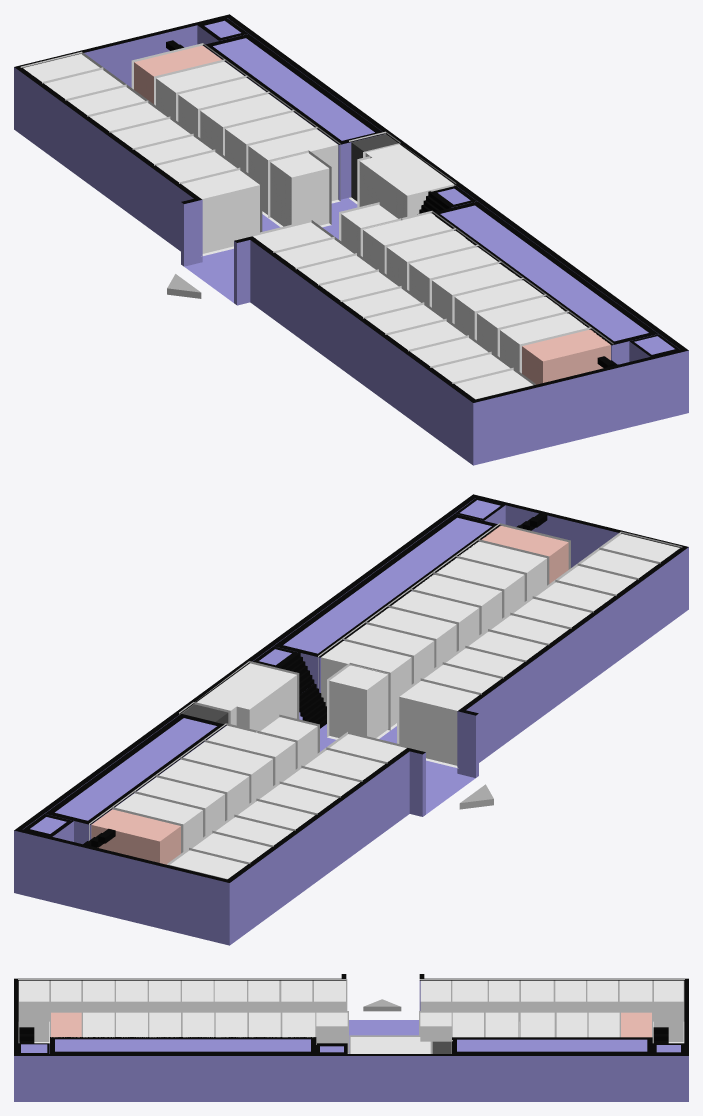
3 views of the same model, one above another, from view 1: azimuth 30°, elevation 25°; view 2: azimuth 150°, elevation 25°; view 3: azimuth 270°, elevation 25° (orthographic). The views are drawn at different scales.
Visible parts, largest first — view 1: object, room_8_3_31, room_8_3_11, room_8_3_33, トイレ_8_3_2, room_8_3_25, room_8_3_27, room_8_3_24, room_8_3_26, room_8_3_19, room_8_3_22, room_8_3_20 (+25 smaller); view 2: object, room_8_3_10, room_8_3_31, room_8_3_32, トイレ_8_3_1, room_8_3_24, room_8_3_27, room_8_3_26, room_8_3_20, room_8_3_23, room_8_3_22, room_8_3_19 (+25 smaller); view 3: object, room_8_3_1, room_8_3_18, room_8_3_31, room_8_3_12, room_8_3_17, room_8_3_32, room_8_3_14, room_8_3_7, room_8_3_3, room_8_3_4, room_8_3_5 (+30 smaller).
Boxes of the visible parts, x1,y1,x2,y2 form: object: (14,14,688,465); room_8_3_31: (359,144,453,217); room_8_3_11: (181,170,259,253); room_8_3_33: (270,153,329,226); トイレ_8_3_2: (522,329,610,384); room_8_3_25: (248,129,338,215); room_8_3_27: (200,94,290,154); room_8_3_24: (363,213,451,272); room_8_3_26: (225,112,314,171); room_8_3_19: (477,296,565,355); room_8_3_22: (409,247,497,305); room_8_3_20: (454,280,542,338); object: (14,494,688,945); room_8_3_10: (399,681,478,765); room_8_3_31: (197,663,296,730); room_8_3_32: (329,665,388,738); トイレ_8_3_1: (91,809,180,864); room_8_3_24: (321,641,411,728); room_8_3_27: (159,759,249,819); room_8_3_26: (183,742,272,801); room_8_3_20: (414,574,501,633); room_8_3_23: (346,624,434,682); room_8_3_22: (368,608,456,666); room_8_3_19: (436,558,524,616); object: (14,974,688,1101); room_8_3_1: (19,980,49,1041); room_8_3_18: (654,980,683,1041); room_8_3_31: (350,1037,430,1053); room_8_3_12: (452,980,487,1010); room_8_3_17: (619,980,652,1010); room_8_3_32: (316,1012,347,1044); room_8_3_14: (521,980,553,1010); room_8_3_7: (214,980,246,1010); room_8_3_3: (83,980,114,1010); room_8_3_4: (116,980,147,1010); room_8_3_5: (149,980,180,1010).
Size of the model in its own units: 0.8464 by 0.2111 by 2.48.
